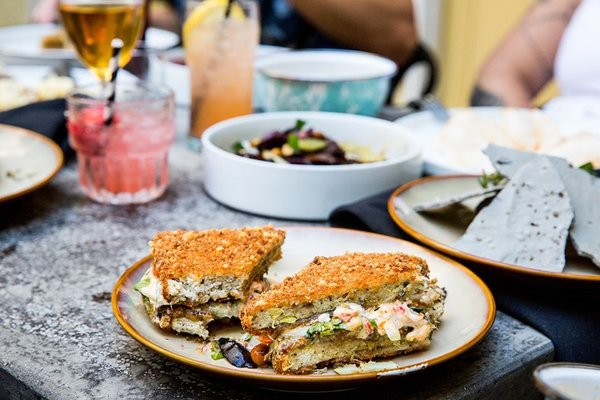pizza: (64, 74, 178, 205), (182, 0, 261, 142), (252, 47, 398, 117)
soup: (239, 250, 449, 375), (140, 224, 286, 338)
sushi: (200, 109, 424, 219)
